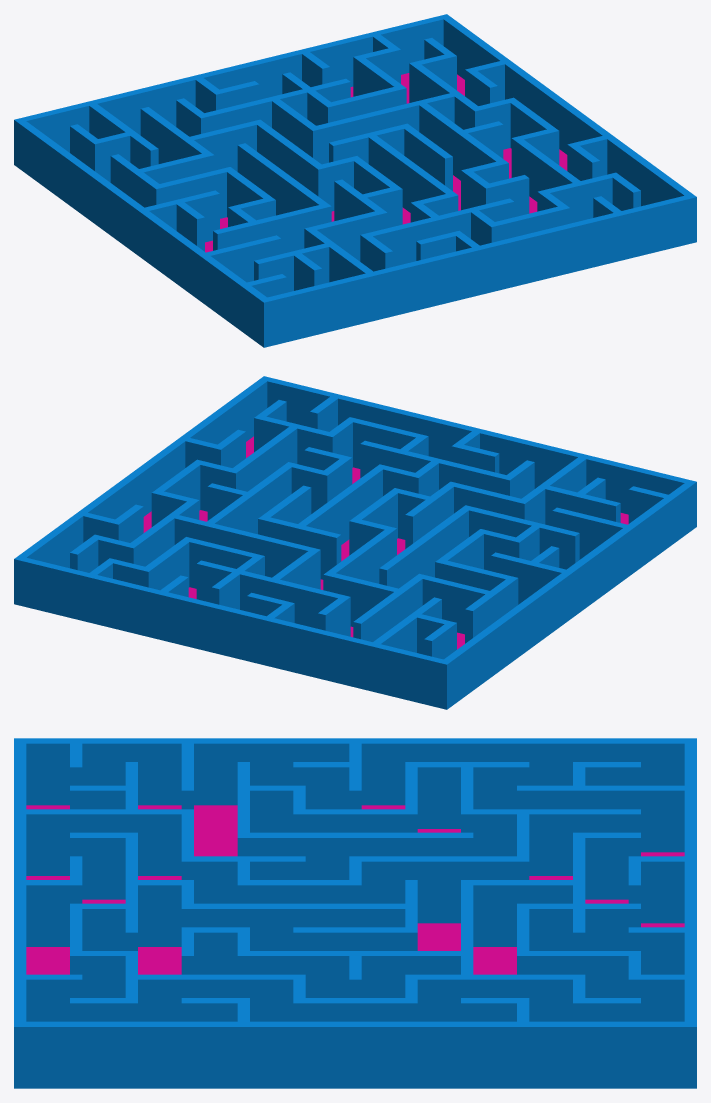
The model's file is Level30Ground.FBX.
The picture shows the model from 3 angles, top to bottom: view 1: azimuth 30°, elevation 25°; view 2: azimuth 150°, elevation 25°; view 3: azimuth 270°, elevation 25°; orthographic projection. The views are drawn at different scales.
Visible parts, largest first — view 1: Labyrinth003; view 2: Labyrinth003; view 3: Labyrinth003.
Boxes of the visible parts, box(x1,y1,x2,y2) form: Labyrinth003: box(14, 14, 696, 347); Labyrinth003: box(14, 376, 696, 709); Labyrinth003: box(14, 738, 696, 1088).
Size of the model in its own units: 281 by 28 by 281.
